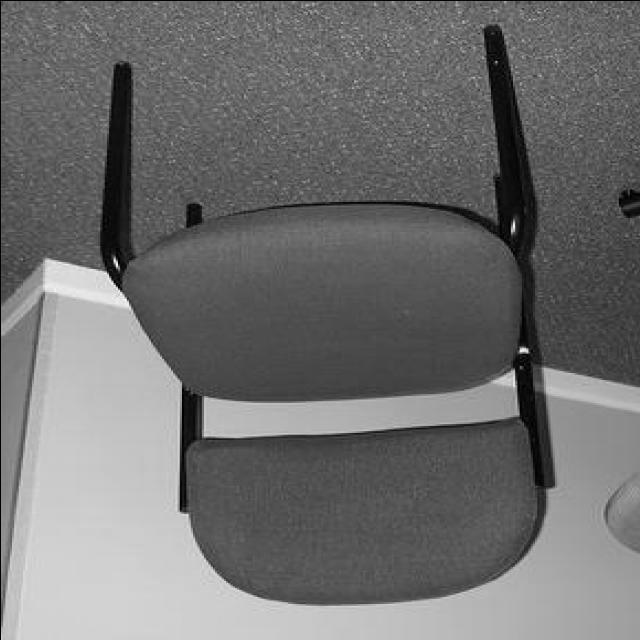chair: (99, 22, 566, 610)
